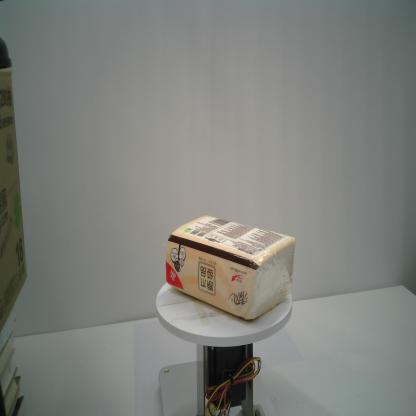Tissue: (165, 215, 296, 320)
